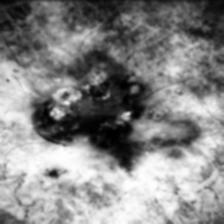Potentially Malignant Skin Tumors: (32, 58, 166, 152)
